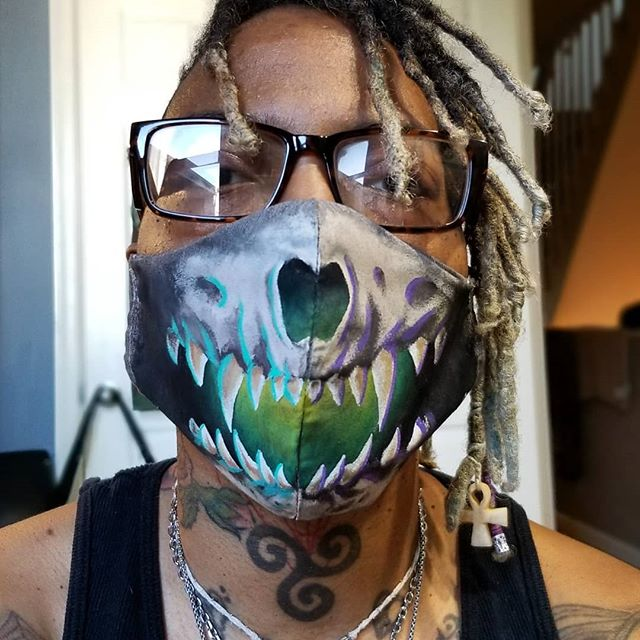homemade: (106, 191, 526, 519)
